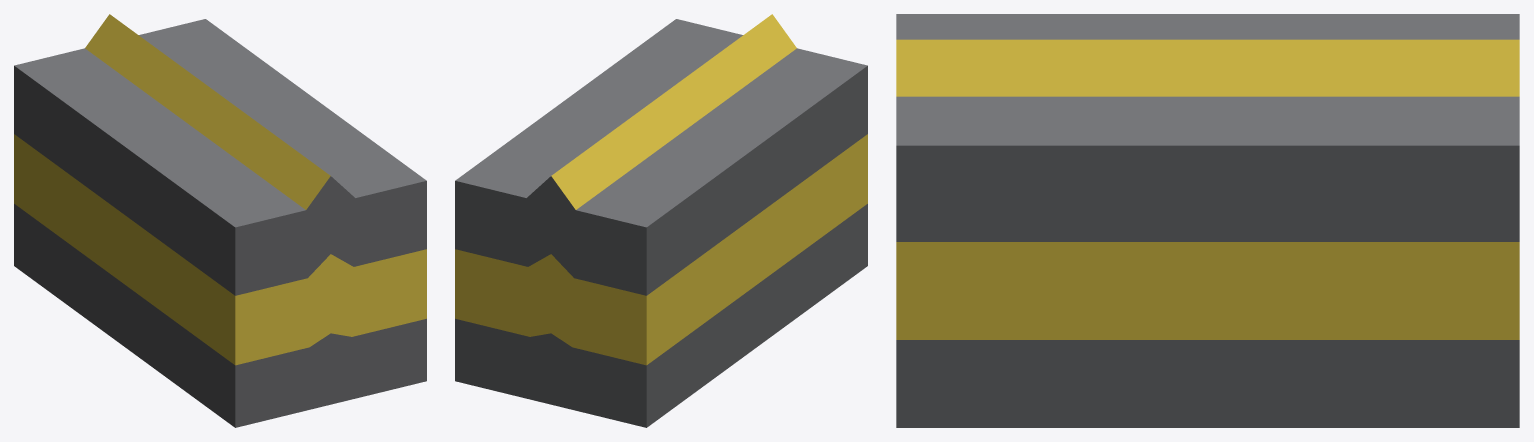
File: ConcreteBlock.fbx
3 renders of one model, left to right at view 1: azimuth 30°, elevation 25°; view 2: azimuth 150°, elevation 25°; view 3: azimuth 270°, elevation 25°, orthographic. The views are drawn at different scales.
Parts seen in each view (by area): view 1: Cube; view 2: Cube; view 3: Cube.
Boxes of the visible parts, bbox=[...] form: Cube: bbox=[14, 14, 426, 427]; Cube: bbox=[455, 14, 867, 427]; Cube: bbox=[896, 14, 1519, 427].
Size of the model in its own units: 200 by 228 by 400.
